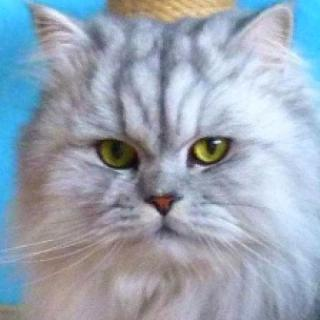cat: (20, 0, 303, 294)
nose: (140, 172, 187, 222)
